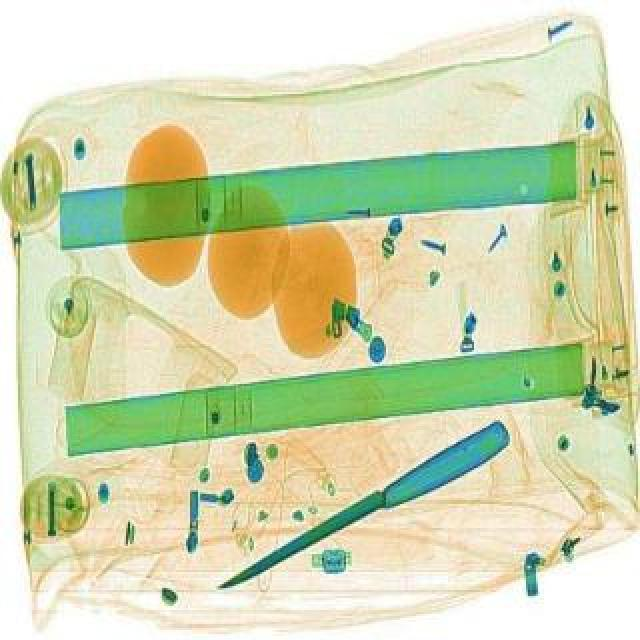knife: (208, 418, 516, 598)
